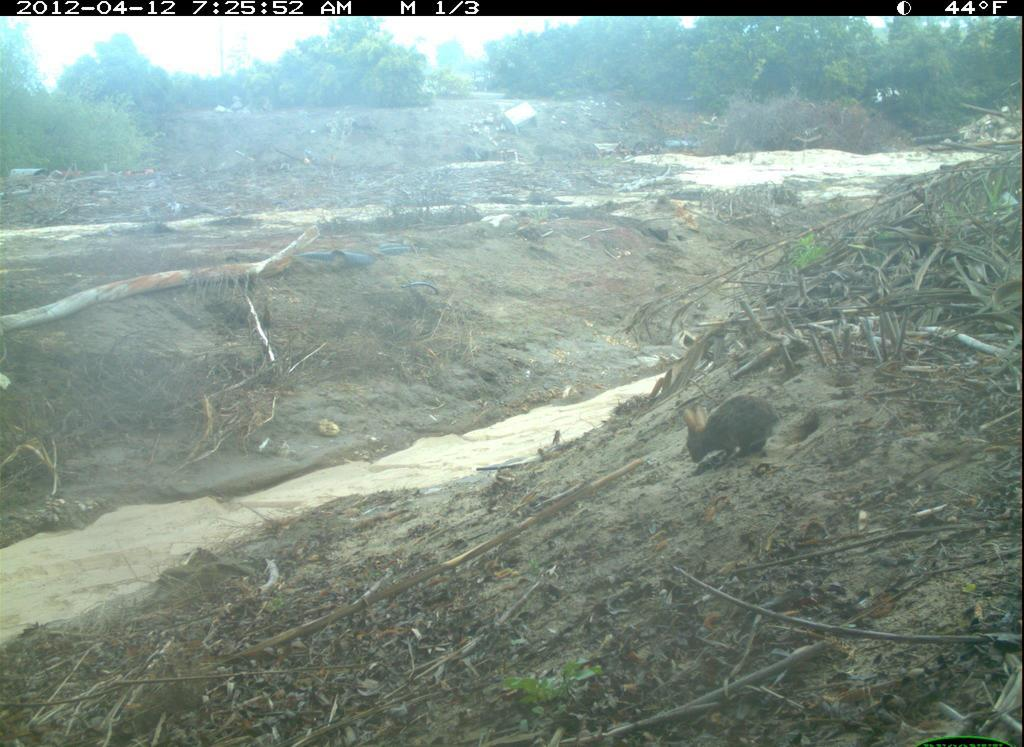rabbit: (675, 385, 788, 481)
